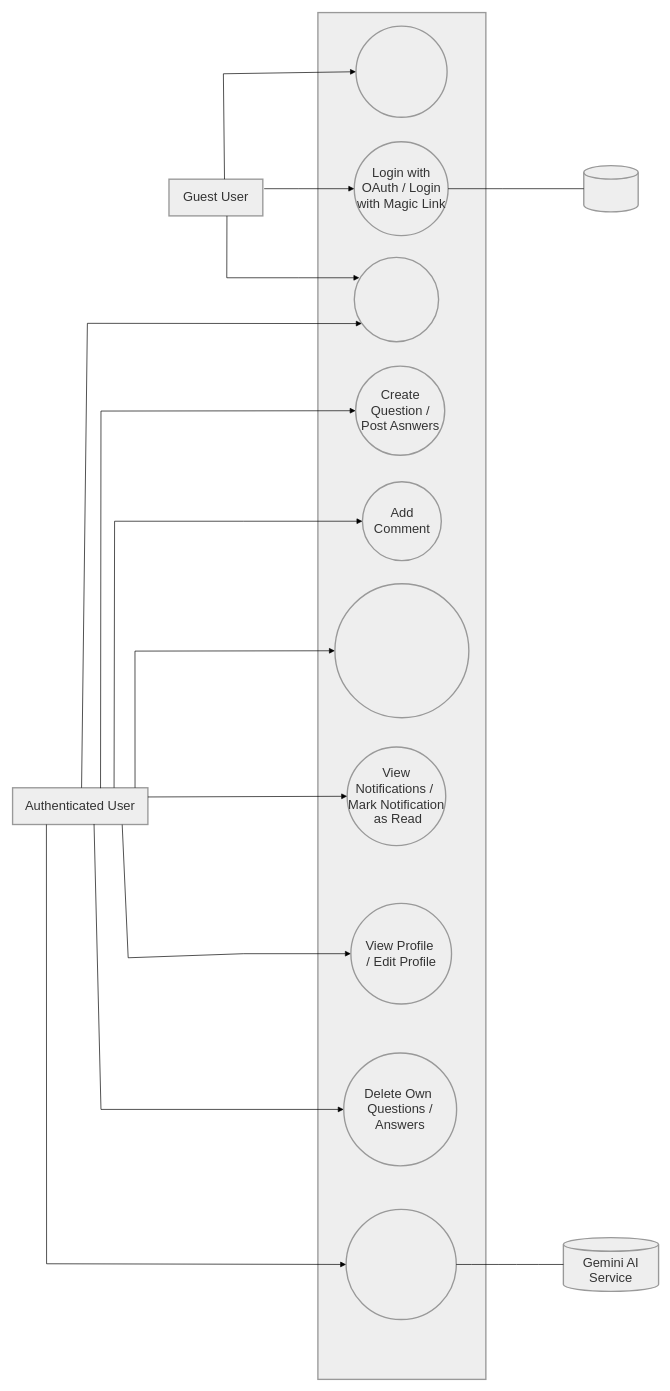
The diagram is 670 pixels wide and 1391 high, and some of its shapes have lost their labels. Here are the shapes that lost their labels. From the top down, the box of each, then its label:
(355, 25, 447, 118): Register/ Login with Email
(583, 165, 639, 212): Appwrite
(353, 256, 439, 342): View Questions / Details
(334, 583, 469, 718): Vote on Question/Answer, Add comment
(345, 1208, 457, 1320): Explain Code with AI
